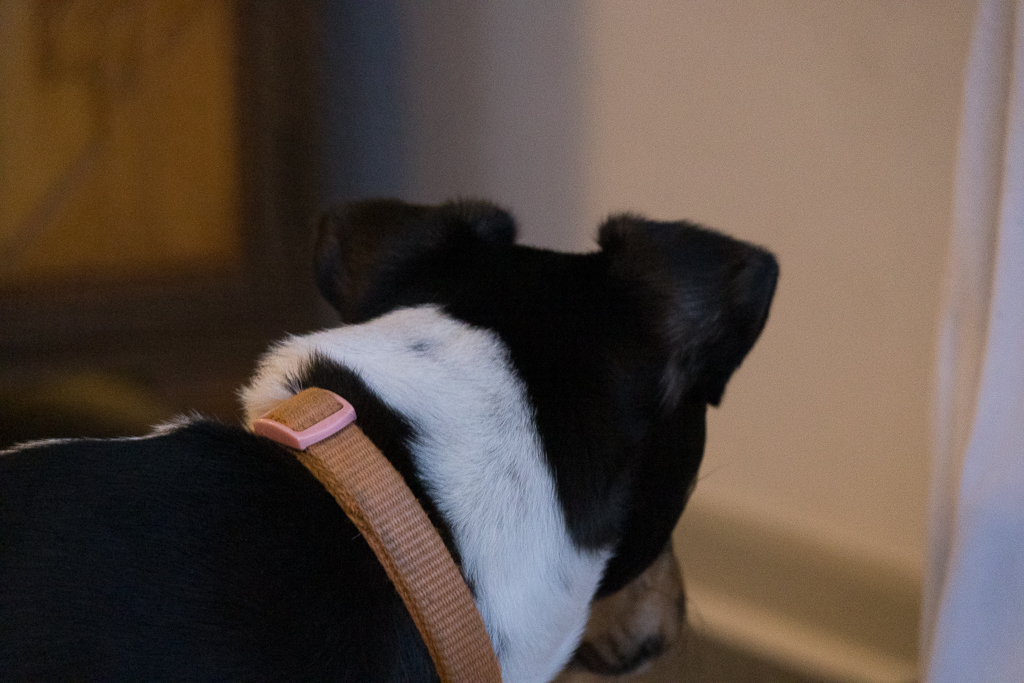Dog: (0, 186, 788, 683)
